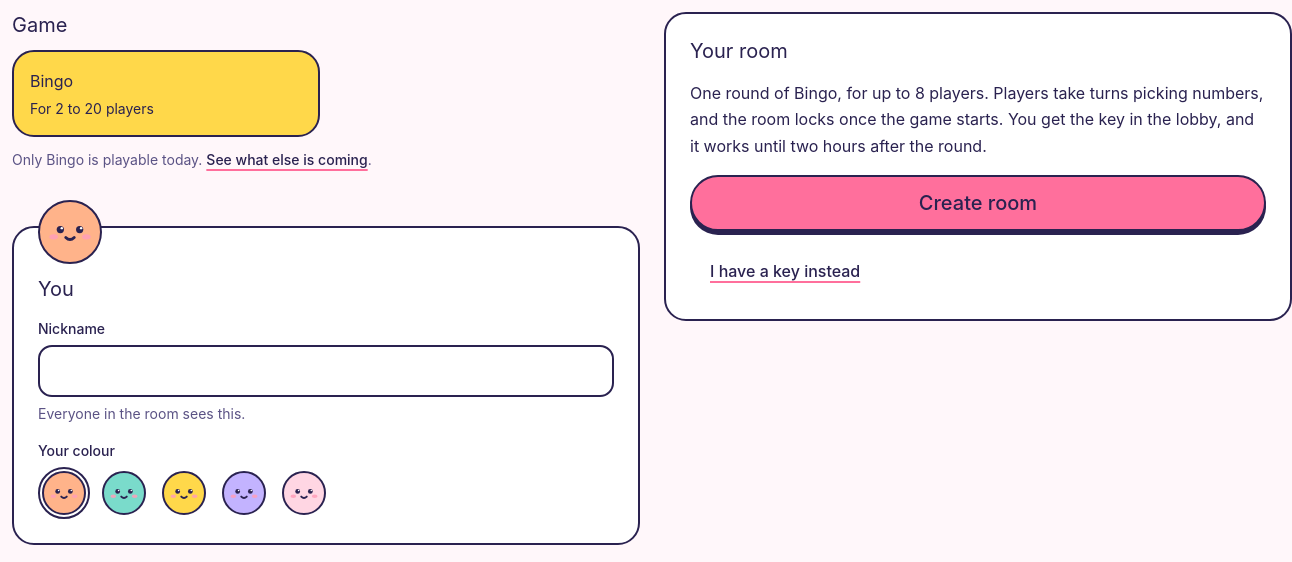
Test case: CreateRoomForm › flags the empty nickname instead of silently doing nothing
The width and height of the screenshot is (1292, 562).
Click the button "Create room" at (978, 203), box [690, 175, 1266, 231]
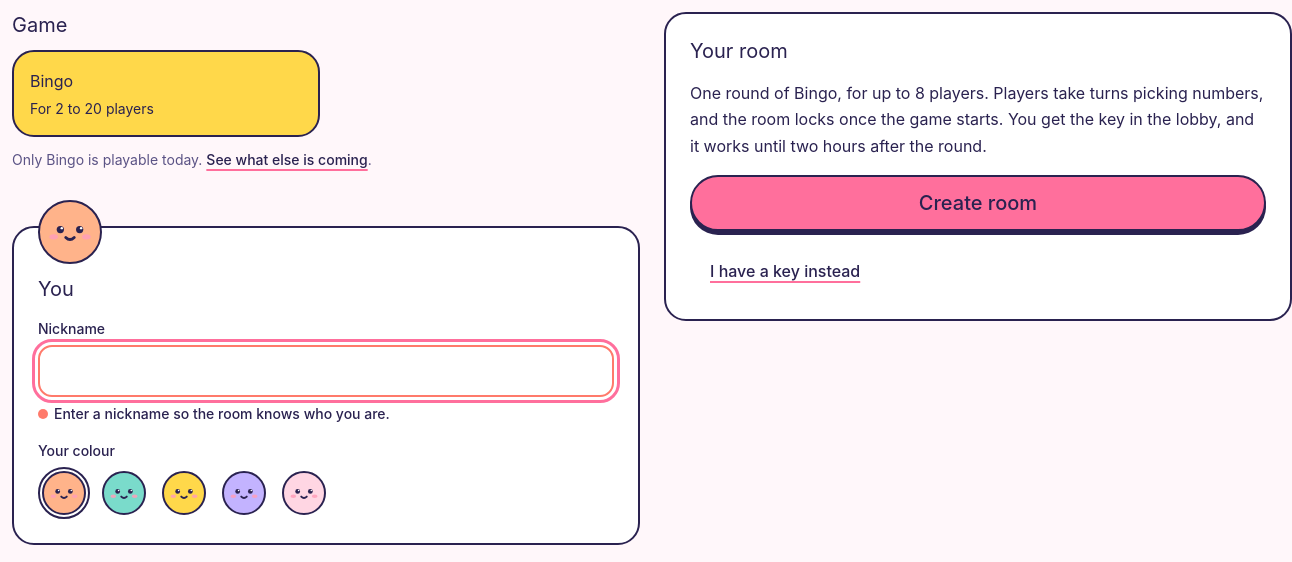
Expected: the message shows "Enter a nickname", [54, 405, 390, 422]
